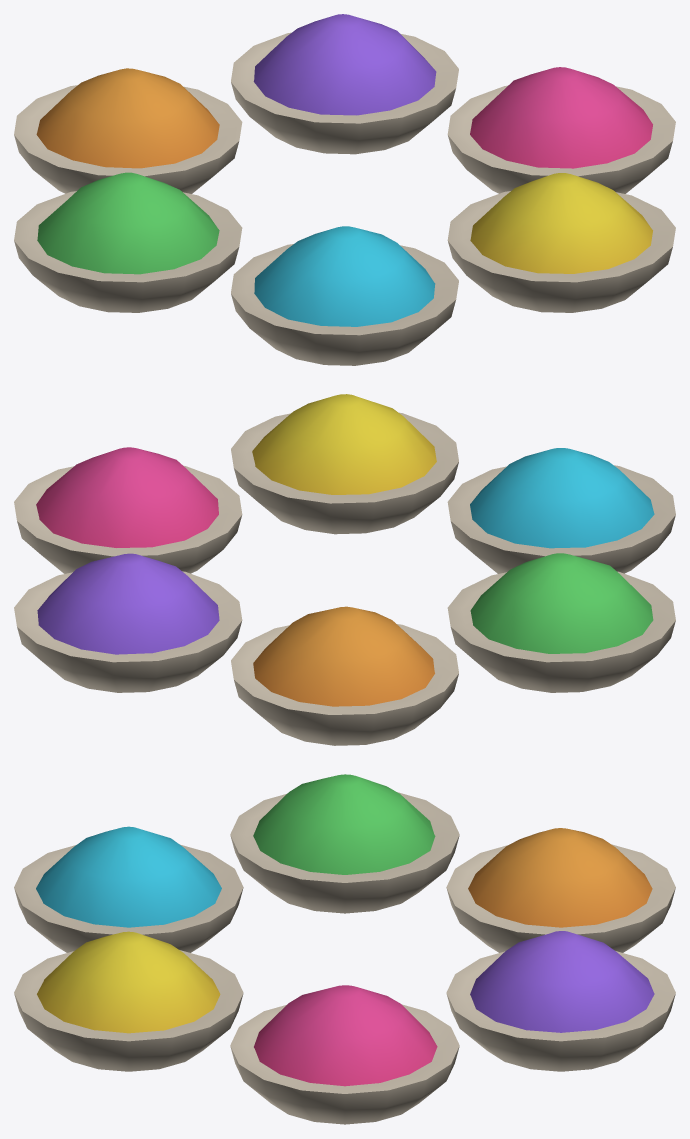
File: fe-colours.glb
3 views of the same model, one above another, from view 1: azimuth 30°, elevation 25°; view 2: azimuth 150°, elevation 25°; view 3: azimuth 270°, elevation 25° (orthographic).
Visible parts, largest first — view 1: fe-colours; view 2: fe-colours; view 3: fe-colours.
Boxes of the visible parts, x1,y1,x2,y2 form: fe-colours: (14, 14, 675, 365); fe-colours: (14, 394, 675, 745); fe-colours: (14, 774, 675, 1124).
Size of the model in its own units: 1.46 by 0.2229 by 1.33.
